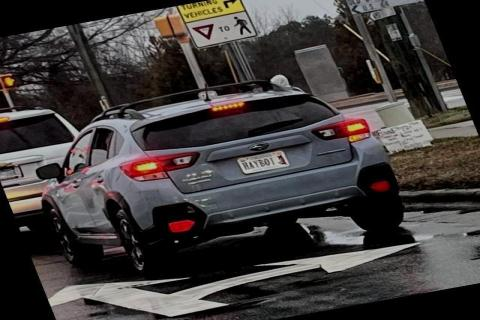LicensePlate: (234, 148, 289, 174)
